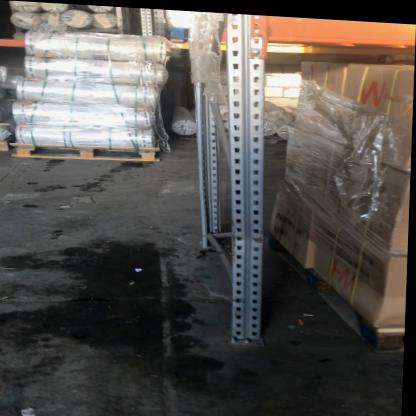vertical_damage: (230, 213, 276, 258)
